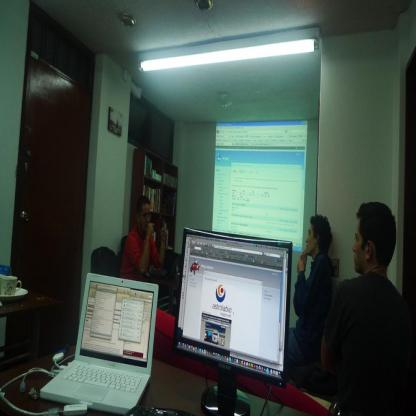board: (38, 264, 156, 412)
